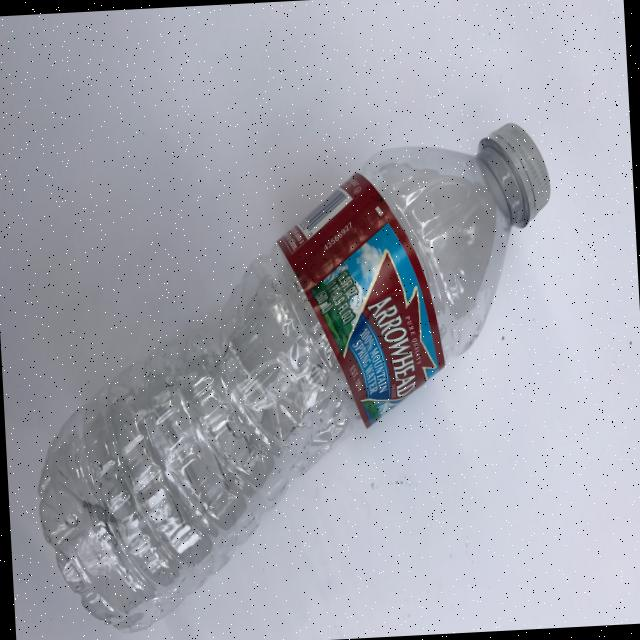plastic: (19, 118, 572, 638)
